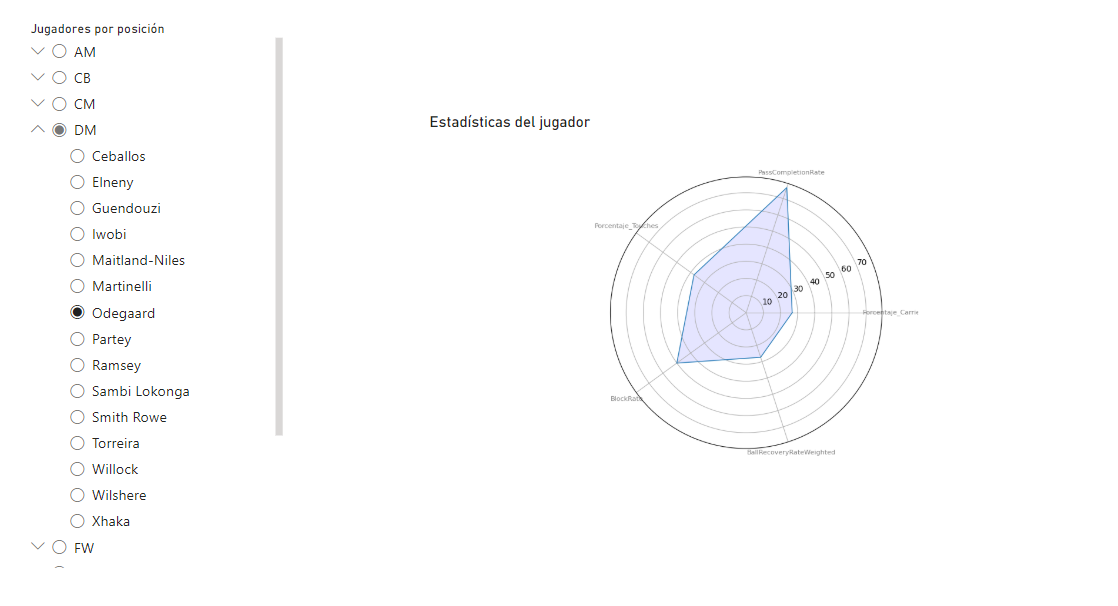

This screenshot's page, from the dashboard's own definition file:
{"tool":"powerbi","page":{"name":"Jugadores","canvas":[1280,720],"ordinal":2},"visuals":[{"type":"pythonVisual","title":"Estadísticas del jugador","fields":{"Values":["dwh factarsenalplayers.Porcentaje_Carries","dwh factarsenalplayers.PassCompletionRate","dwh factarsenalplayers.Porcentaje_Touches","dwh factarsenalplayers.BlockRate","dwh factarsenalplayers.BallRecoveryRate"]},"box":[476.7,131.1,704.4,421.1],"z":0},{"type":"slicer","fields":{"Values":["dwh factarsenalplayers.Pos","dwh factarsenalplayers.LastName_Player"]},"box":[25.6,24.4,297.8,616.7],"z":1000}]}

Visuals, with their boxes on the page's 1280x720 design canvas (x1, y1, x2, y2). These are canvas units, not pixel positions in the 1118x606 screenshot, which may show the page scaled, cropped or inside an application window:
"Estadísticas del jugador" pythonVisual: {"left": 477, "top": 131, "right": 1181, "bottom": 552}
slicer - dwh factarsenalplayers.Pos x dwh factarsenalplayers.LastName_Player: {"left": 26, "top": 24, "right": 323, "bottom": 641}
